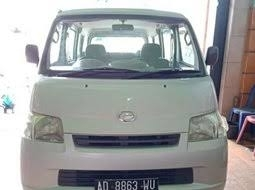plate: (97, 179, 157, 190)
